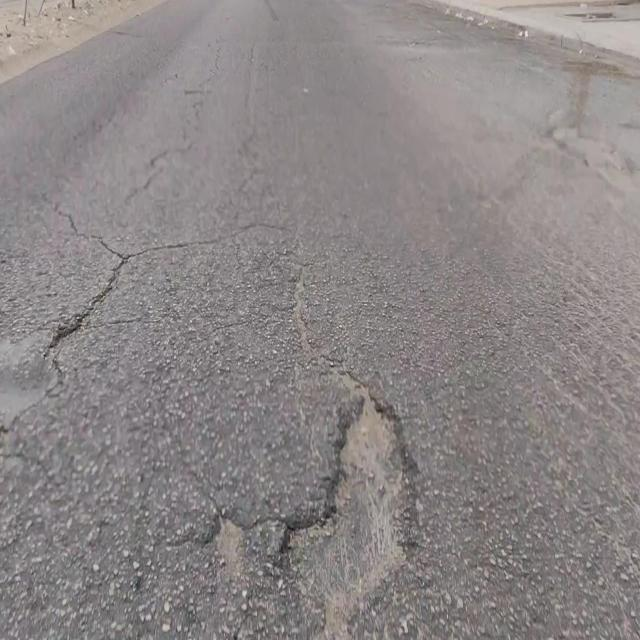Potholes: (275, 386, 419, 619)
